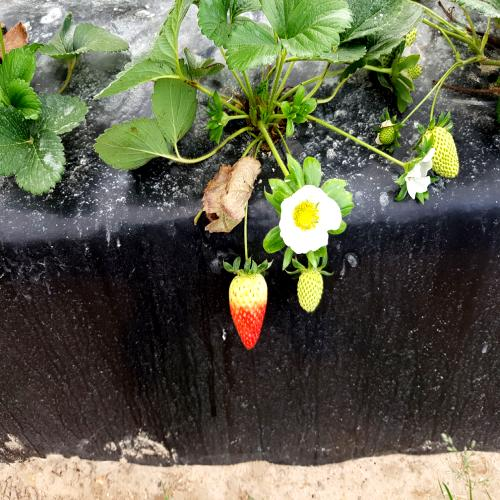partially-ripe: (223, 259, 273, 363)
unripe: (297, 262, 324, 324)
